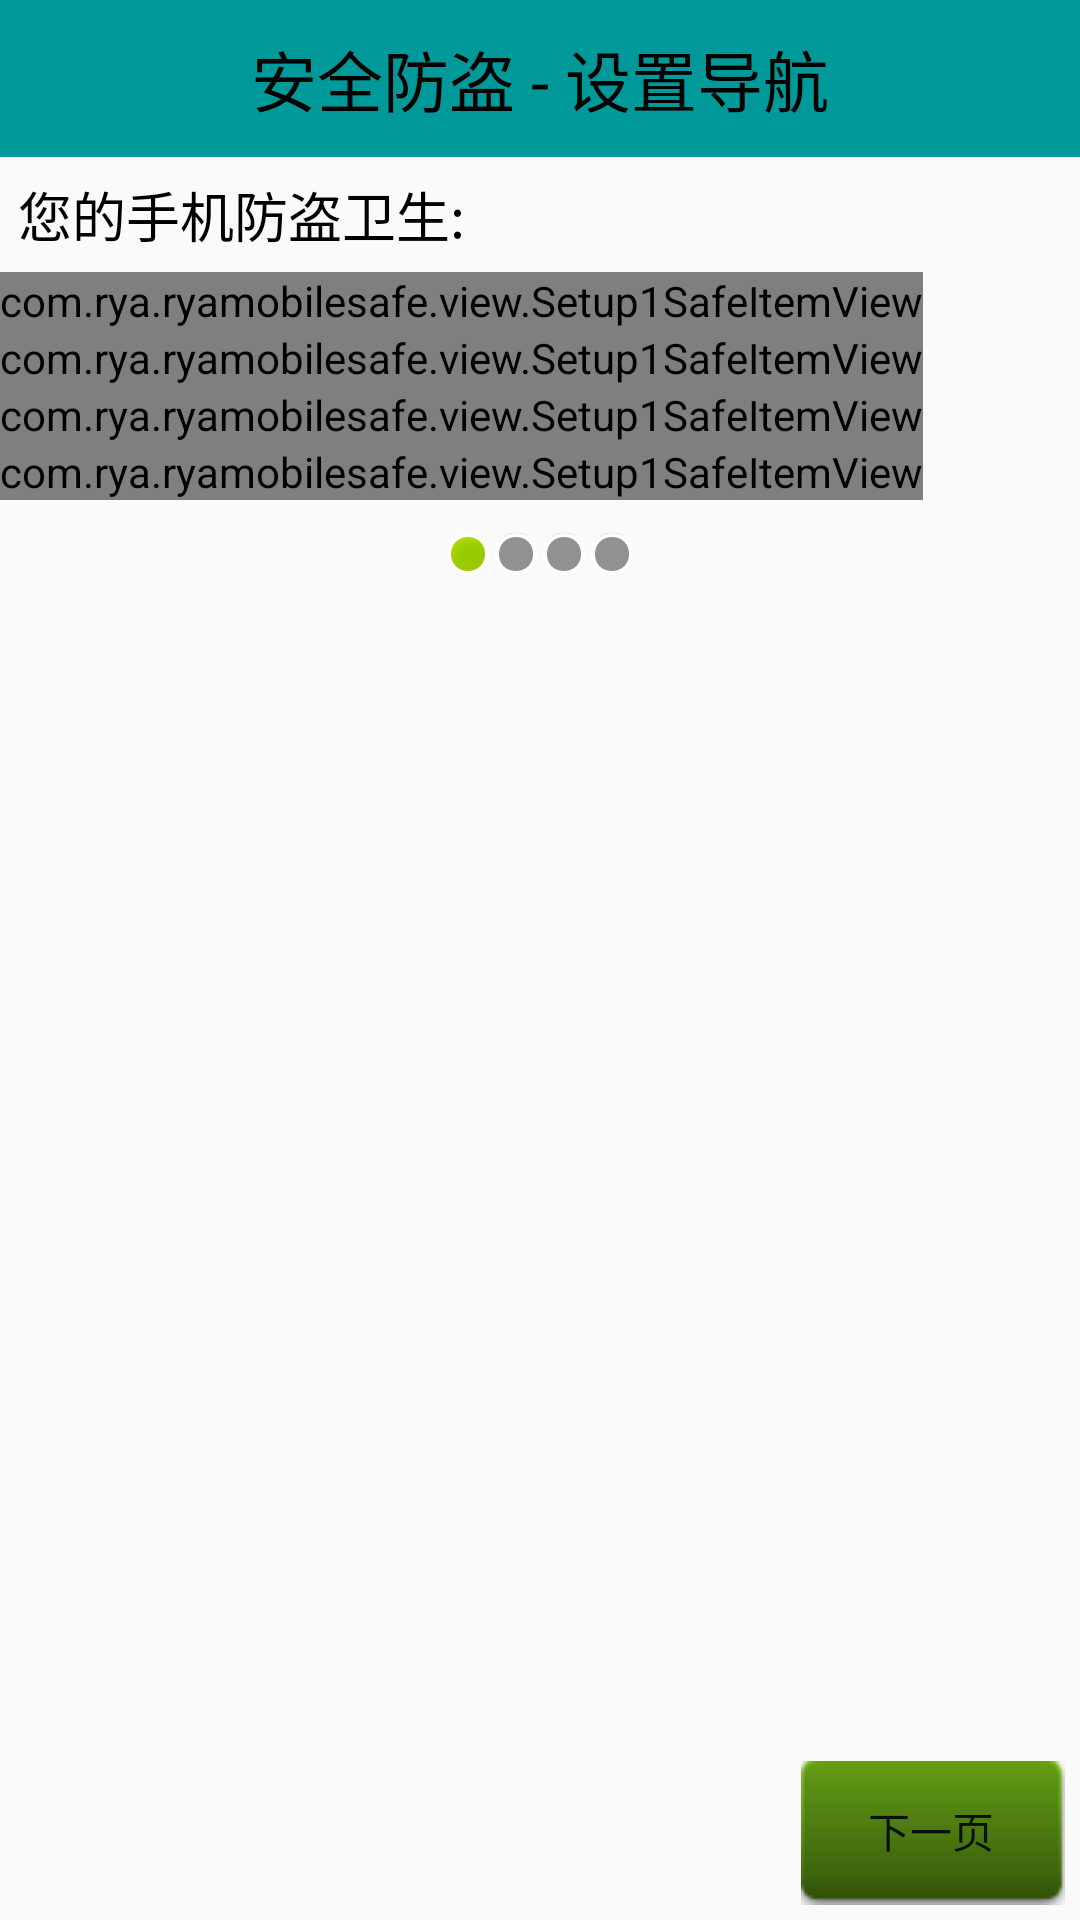

Screen size 1080 x 1920. Icon name, then its box in pixels as detection(x1, y1, x2, y2):
presence invisible: detection(499, 533, 533, 571), detection(547, 533, 581, 571), detection(595, 533, 629, 571)
presence online: detection(451, 537, 485, 571)
